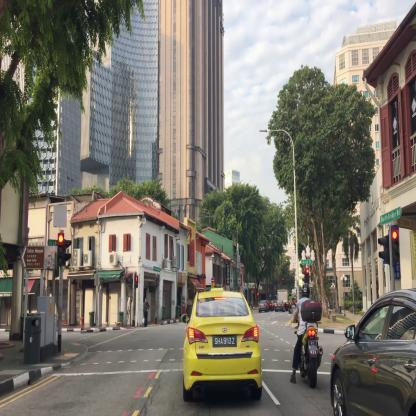red_traffic_light: (392, 230, 398, 262), (58, 233, 64, 264), (306, 269, 309, 283)
